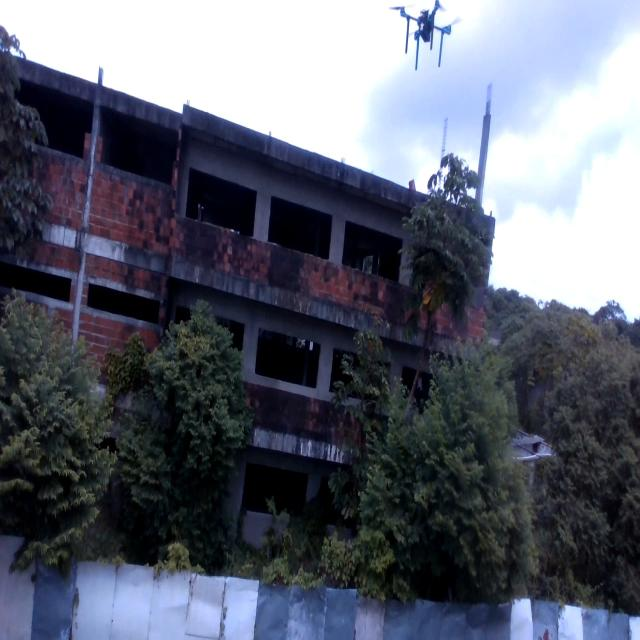-uav-: (387, 0, 468, 80)
